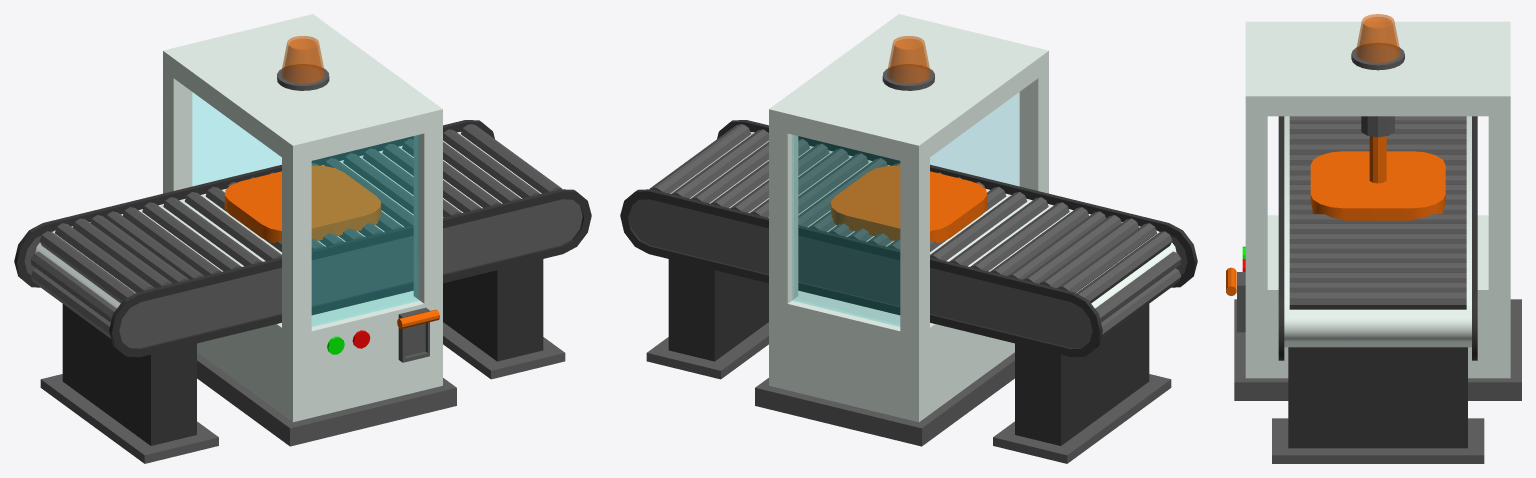
3 renders of one model, left to right at view 1: azimuth 30°, elevation 25°; view 2: azimuth 150°, elevation 25°; view 3: azimuth 270°, elevation 25°, orthographic.
Parts seen in each view (by area): view 1: pCube96, pCube76, pCube47, pCube97, pCube79, pCube71, pCube99, pCube70, pCube102, pCube92, pCube93, pCube98 (+27 smaller); view 2: pCube96, pCube47, pCube77, pCube98, pCube79, pCube72, pCube99, pCube70, pCube102, pCube95, pCube94, pCube97 (+26 smaller); view 3: pCube96, pCube99, pCube103, pCube70, pCube47, pCube100, pCube102, pCube93, pCube94, pCylinder66, pCylinder44, pCylinder48 (+24 smaller).
Part boxes in pixels (x1,y1,x2,y2): pCube96: (163, 14, 442, 165); pCube76: (119, 199, 582, 348); pCube47: (197, 290, 442, 422); pCube97: (312, 135, 419, 326); pCube79: (62, 304, 196, 445); pCube71: (109, 189, 591, 357); pCube99: (443, 259, 543, 361); pCube70: (224, 165, 381, 243); pCube102: (197, 352, 456, 446); pCube92: (282, 158, 311, 335); pCube93: (413, 129, 442, 303); pCube98: (192, 93, 281, 185); pCube96: (769, 14, 1048, 165); pCube47: (769, 290, 1014, 422); pCube77: (629, 199, 1092, 348); pCube98: (792, 135, 899, 326); pCube79: (1015, 304, 1149, 445); pCube72: (620, 189, 1102, 357); pCube99: (668, 259, 768, 361); pCube70: (830, 165, 987, 243); pCube102: (755, 352, 1014, 446); pCube95: (900, 158, 929, 335); pCube94: (769, 129, 798, 303); pCube97: (930, 93, 1019, 185); pCube96: (1245, 21, 1510, 116); pCube99: (1288, 347, 1467, 448); pCube103: (1284, 116, 1471, 347); pCube70: (1310, 151, 1445, 220); pCube47: (1245, 215, 1510, 378); pCube100: (1272, 418, 1484, 463); pCube102: (1234, 299, 1521, 400); pCube93: (1245, 116, 1267, 289); pCube94: (1488, 116, 1510, 289); pCylinder66: (1289, 293, 1466, 309); pCylinder44: (1289, 262, 1466, 272); pCylinder48: (1289, 223, 1466, 233).
Size of the model in its own units: 12.79 by 8.45 by 6.69.
